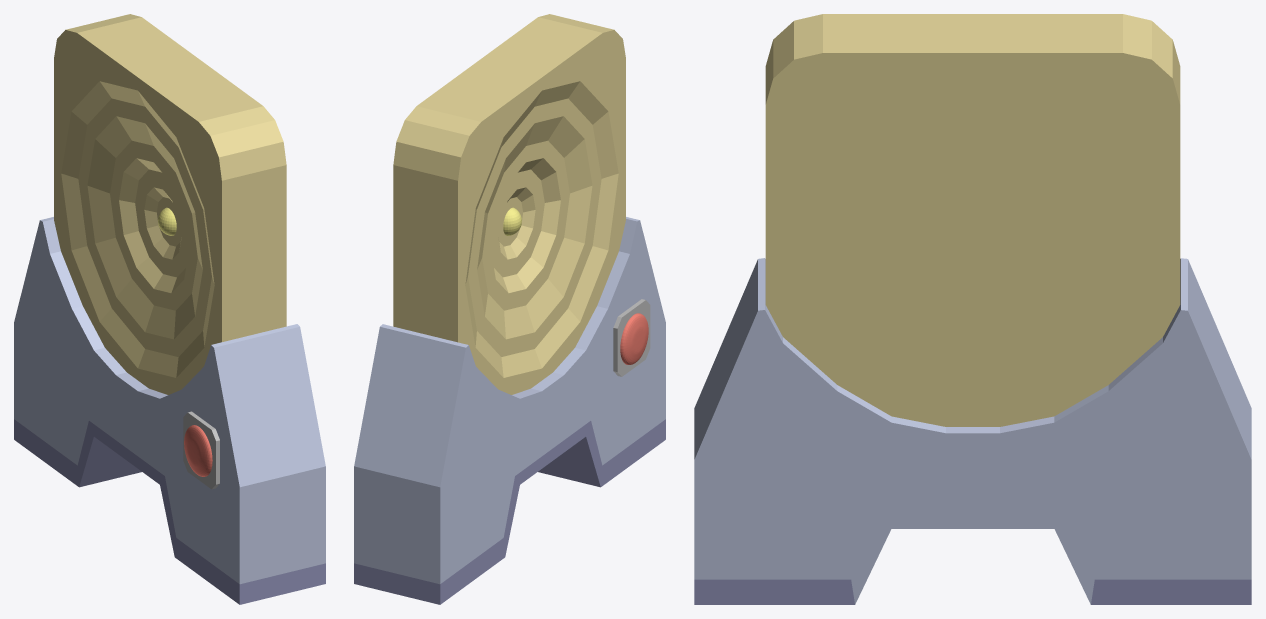
Rendered from 4.1光线接收机关Col.fbx.
The picture shows the model from 3 angles, left to right: view 1: azimuth 30°, elevation 25°; view 2: azimuth 150°, elevation 25°; view 3: azimuth 270°, elevation 25°; orthographic projection. The views are drawn at different scales.
Visible parts, largest first — view 1: Cube, 平面, 立方体, 柱体; view 2: Cube, 平面, 立方体, 柱体; view 3: Cube, 平面.
Boxes of the visible parts, box(x1,y1,x2,y2) form: Cube: box(54, 14, 286, 394); 平面: box(14, 217, 325, 604); 立方体: box(183, 411, 219, 489); 柱体: box(184, 425, 212, 476); Cube: box(393, 14, 625, 394); 平面: box(354, 217, 665, 604); 立方体: box(613, 299, 650, 376); 柱体: box(620, 313, 648, 364); Cube: box(765, 14, 1180, 426); 平面: box(694, 258, 1251, 604).
Bounding box in the file's own units: 32.92 × 145 × 134.
